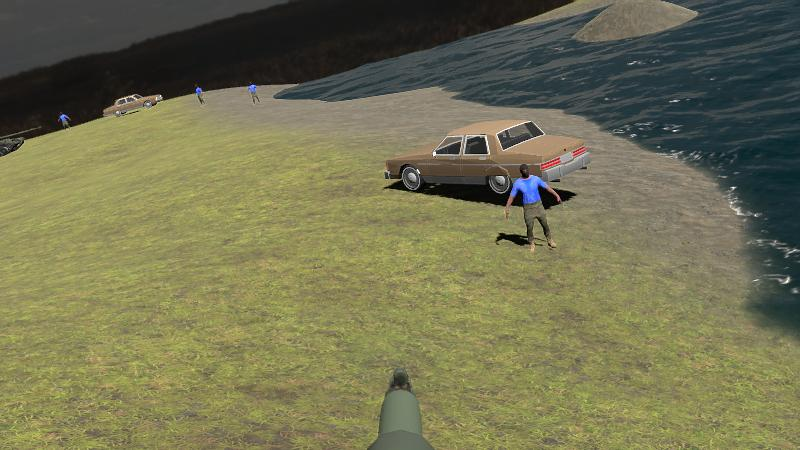Human: (505, 164, 562, 252)
Tank: (0, 127, 42, 158)
car: (384, 120, 593, 199), (104, 93, 162, 117)
